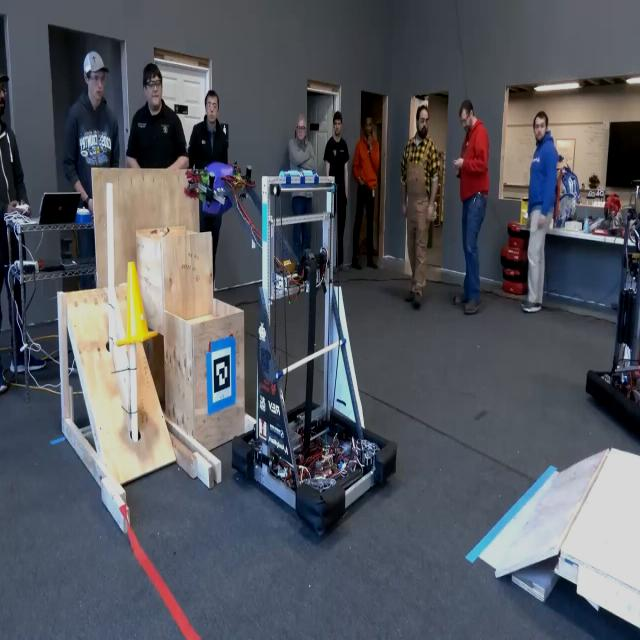frc_cone: (117, 259, 160, 352)
frc_cube: (198, 162, 234, 221)
